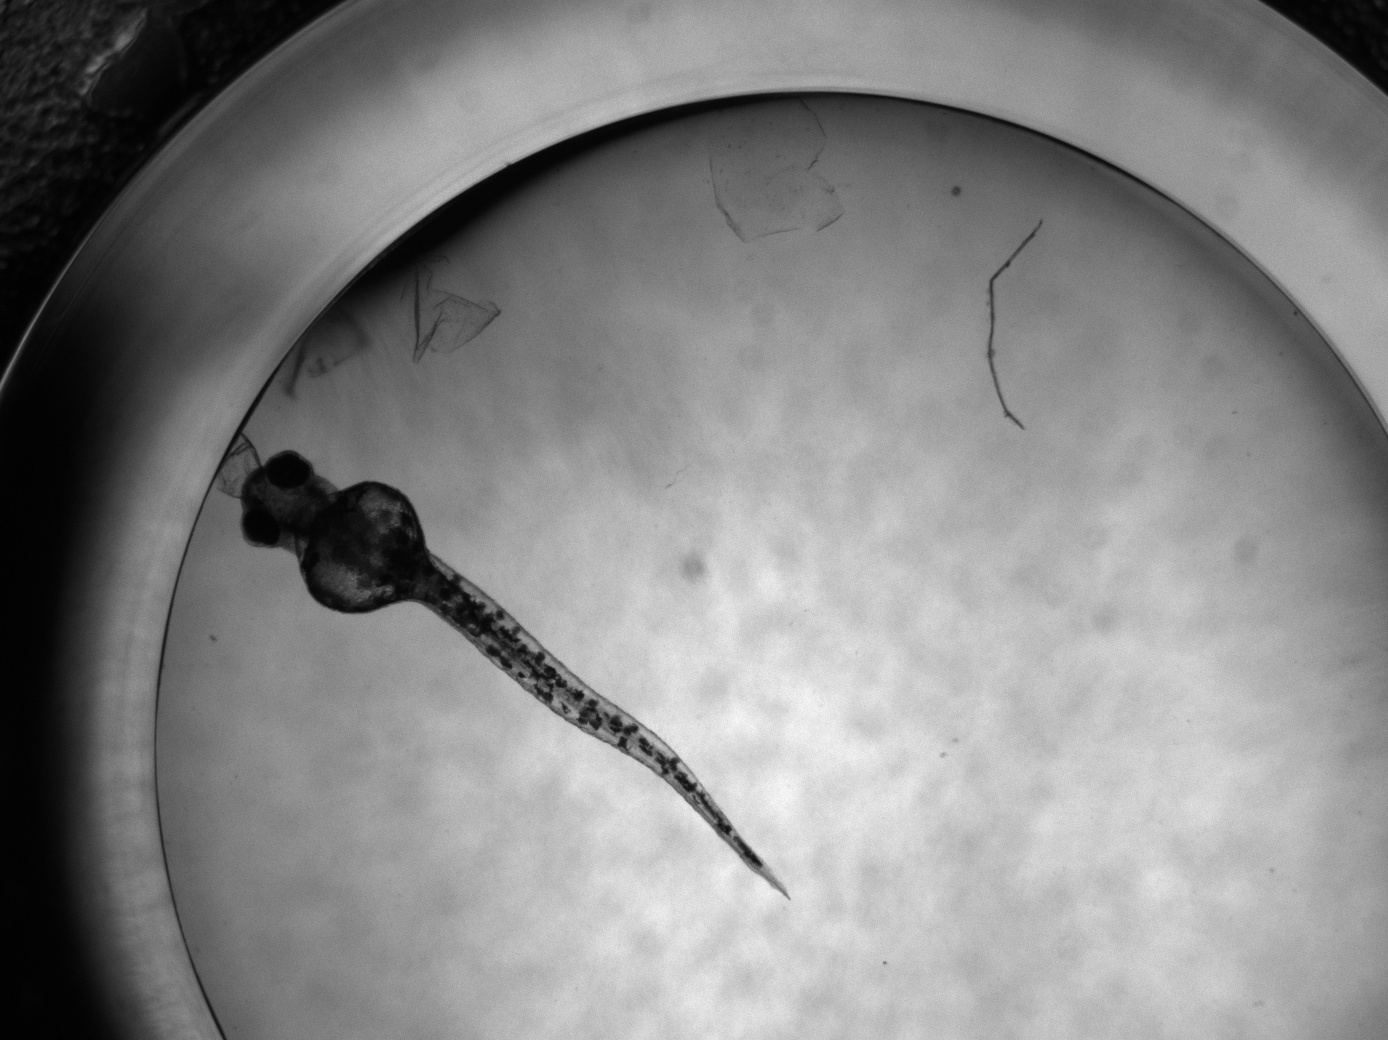debris: (708, 95, 845, 241), (396, 248, 500, 365)
embryo: (239, 450, 794, 905)
eye: (264, 451, 313, 491), (242, 508, 281, 547)
yolksac: (298, 480, 425, 615)
